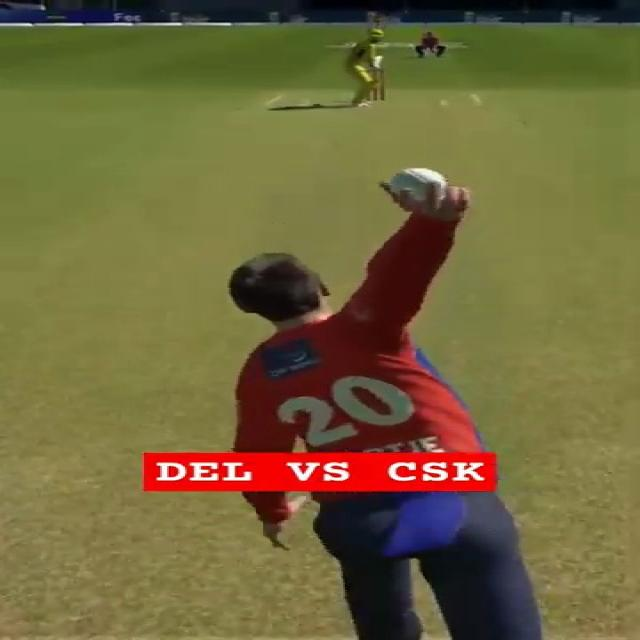ball: (388, 168, 446, 199)
